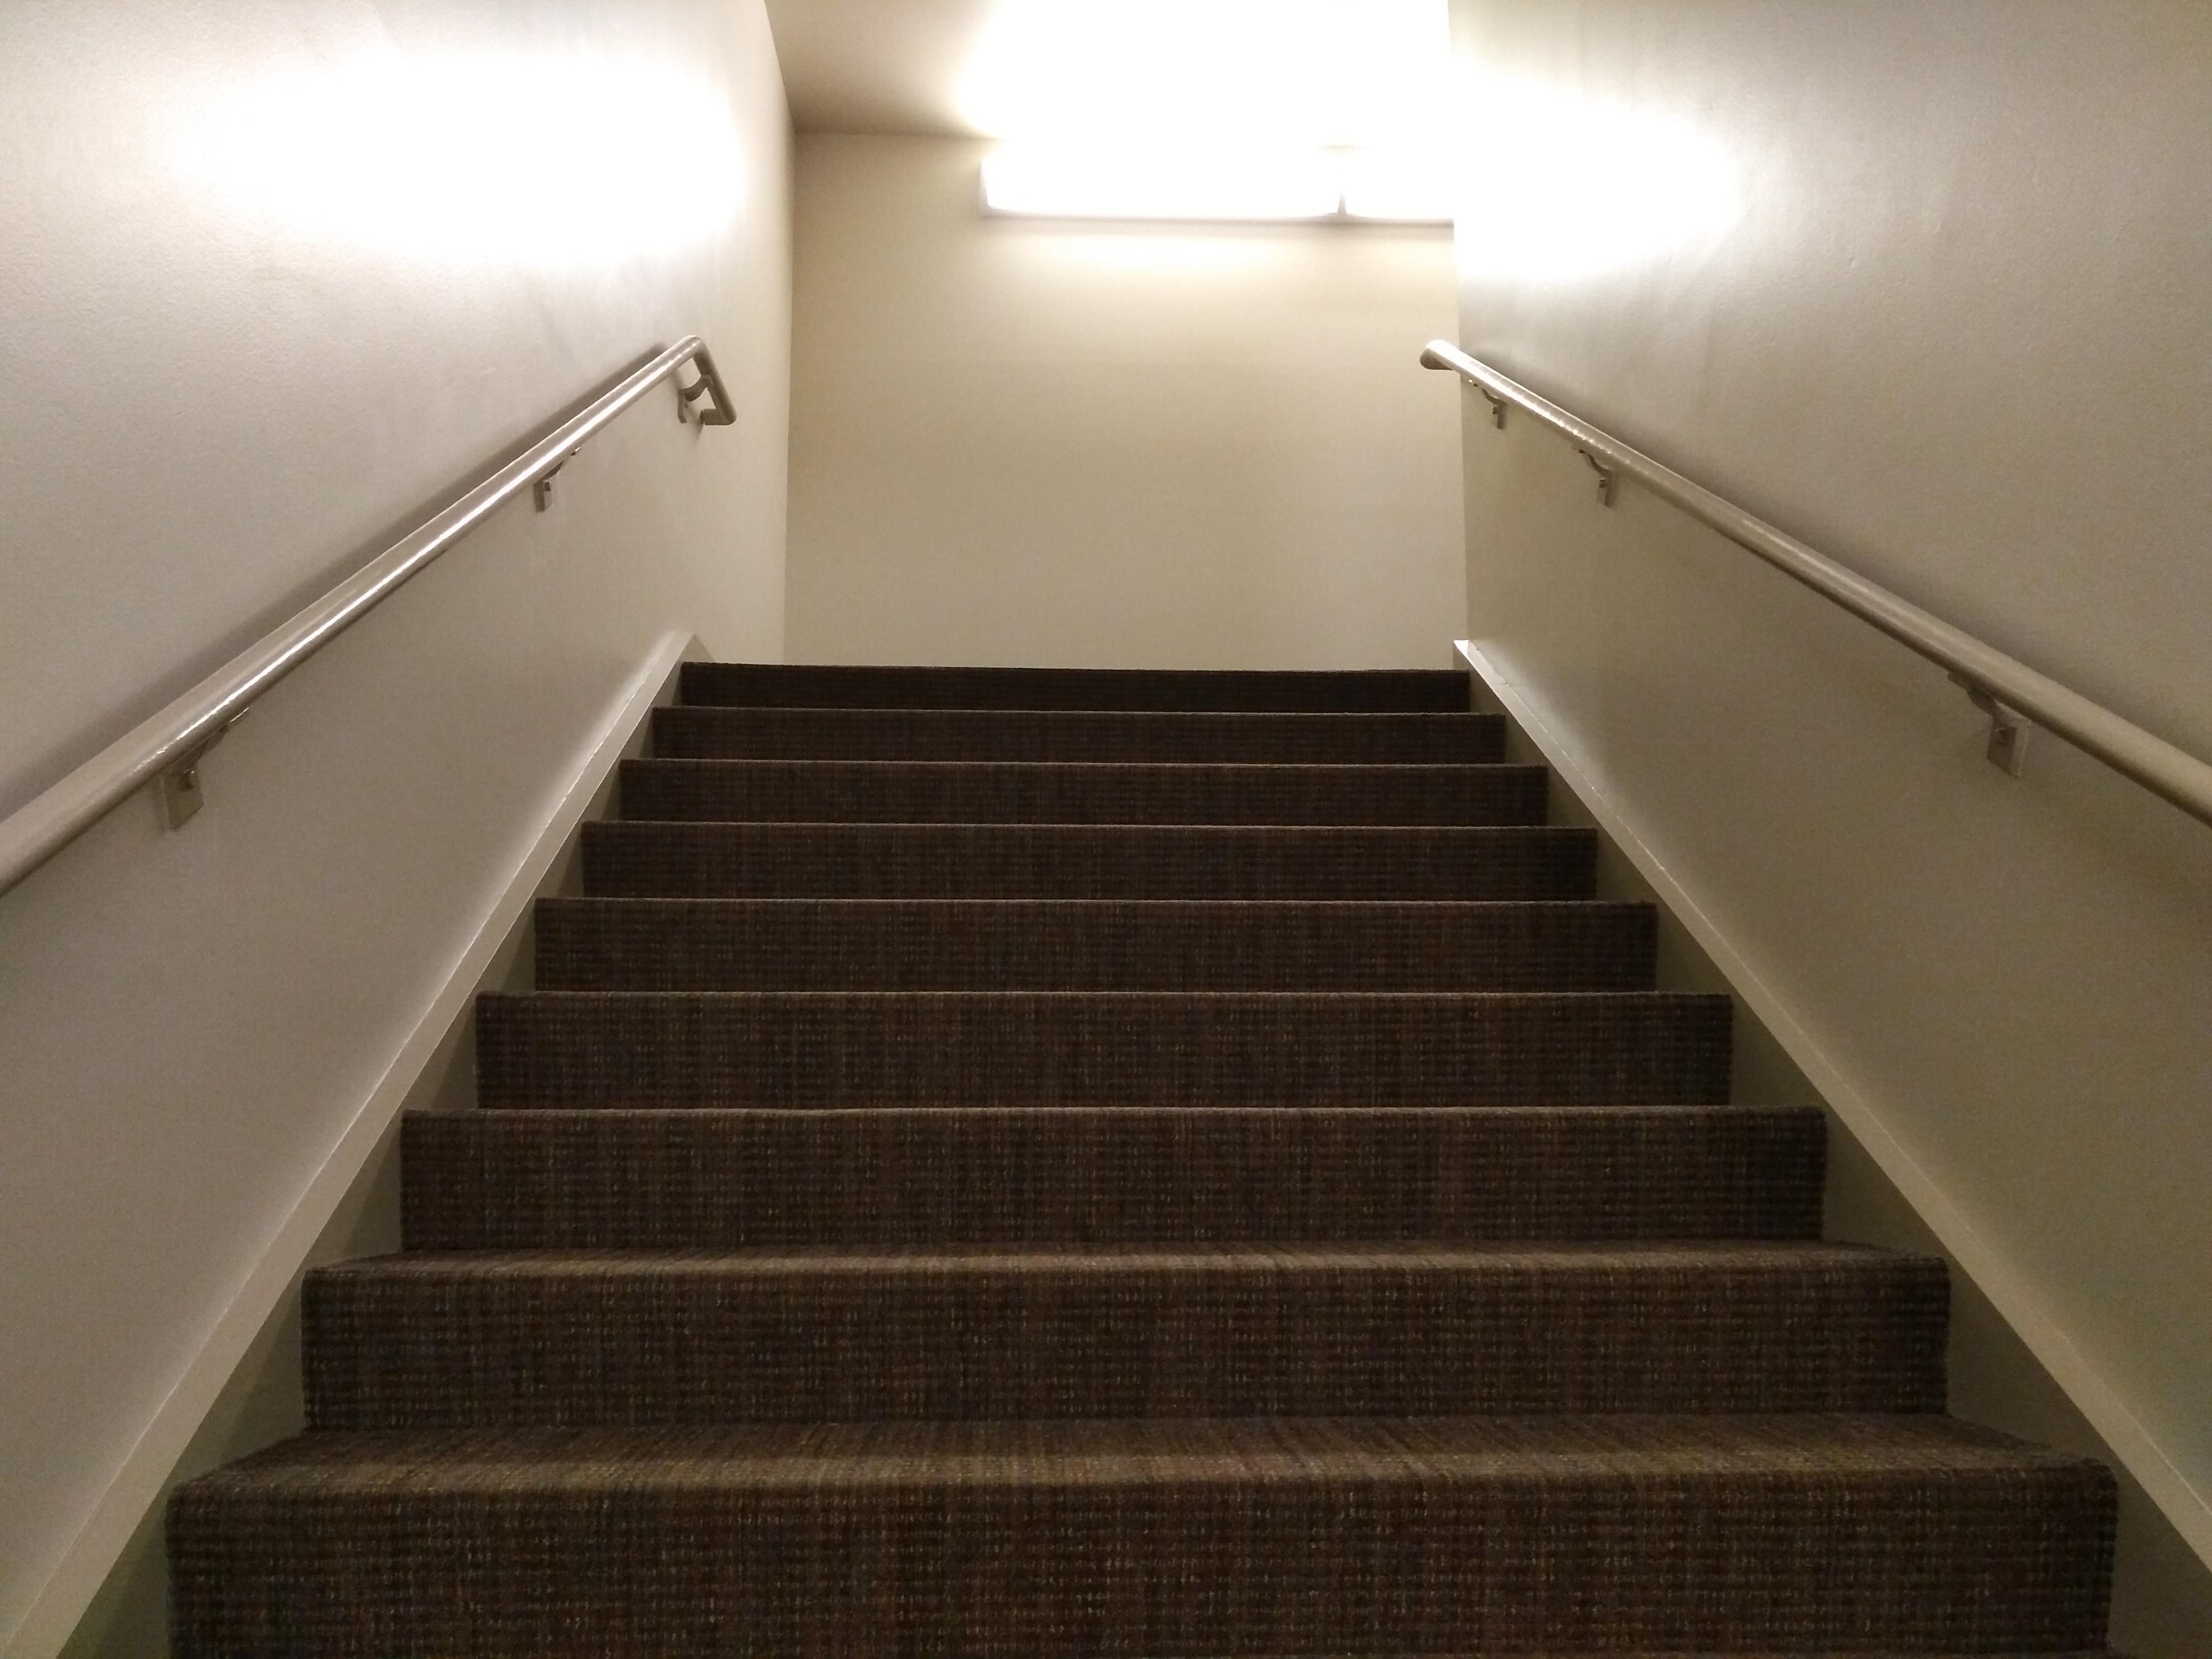stairs_up: (179, 626, 2101, 1593)
